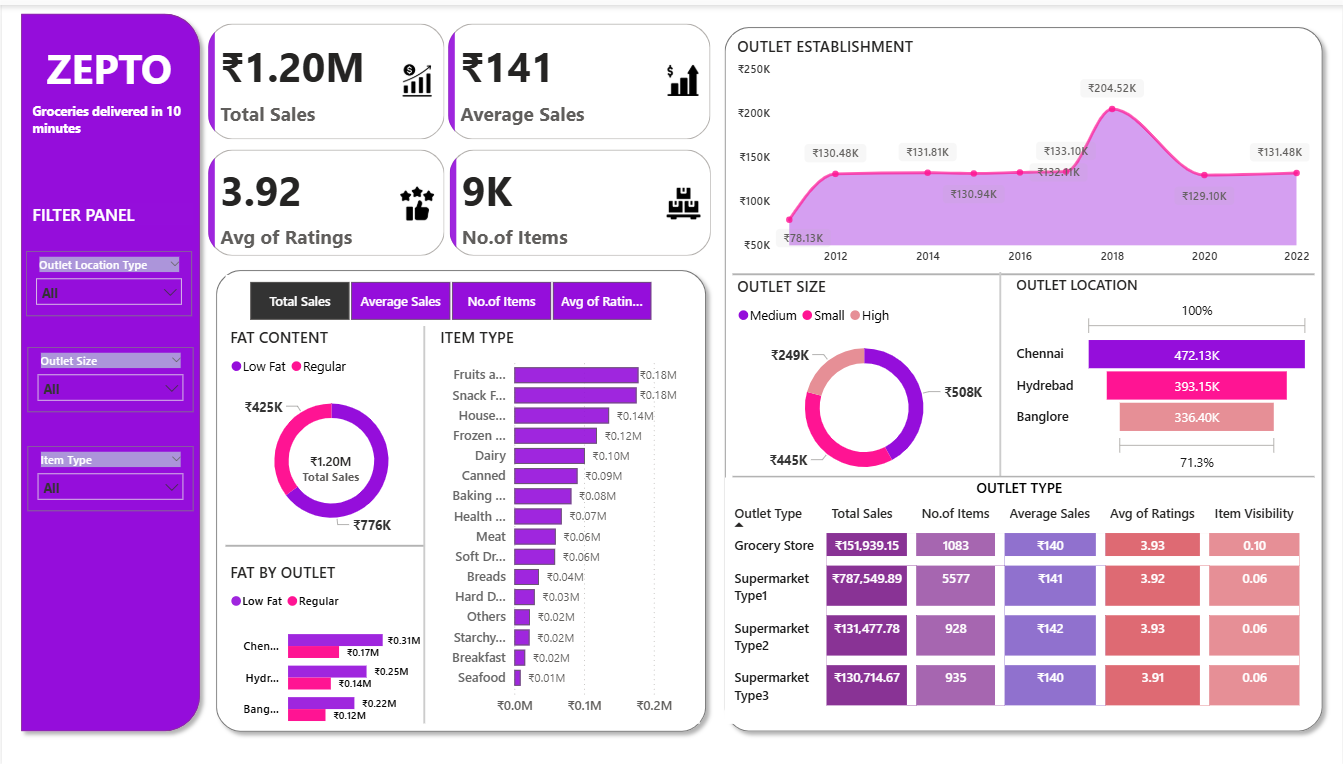

Layout of this report page (visuals, bound fields, positions):
{"tool":"powerbi","page":{"name":"Page 1","canvas":[1400,800],"ordinal":0},"visuals":[{"type":"shape","box":[10.4,0,204.9,767.6],"z":0},{"type":"textbox","box":[262.2,626.9,204.9,123.3],"z":1000},{"type":"textbox","box":[24.3,31.3,173.7,76.4],"z":2000},{"type":"textbox","box":[26,95.5,173.7,50.4],"z":3000},{"type":"cardVisual","title":" ","fields":{"Data":["Zepto Grocery Data.Average Sales"]},"box":[460.2,13.9,284.8,132],"z":4000},{"type":"cardVisual","fields":{"Data":["Zepto Grocery Data.Avg of Ratings"]},"box":[210.1,145.9,257,121.6],"z":5000},{"type":"cardVisual","fields":{"Data":["Zepto Grocery Data.Total Sales"]},"box":[210.1,13.9,257,132],"z":6000},{"type":"cardVisual","fields":{"Data":["Zepto Grocery Data.No.of Items"]},"box":[461.9,145.9,283.1,121.6],"z":7000},{"type":"shape","box":[215.3,267.4,529.7,500.2],"z":8000},{"type":"donutChart","title":"FAT CONTENT","fields":{"Y":["Zepto Grocery Data.Total Sales"],"Category":["Zepto Grocery Data.Item Fat Content"]},"box":[232.7,335.2,220.6,230],"z":9000},{"type":"slicer","fields":{"Values":["Metrics.Metrics"]},"box":[232.7,281.3,468.9,53.8],"z":10000},{"type":"cardVisual","fields":{"Data":["Zepto Grocery Data.Total Sales"]},"box":[290,449.8,107.7,55.6],"z":11000},{"type":"clusteredBarChart","title":"FAT BY OUTLET","fields":{"Y":["Zepto Grocery Data.Total Sales"],"Category":["Zepto Grocery Data.Outlet Location Type"],"Series":["Zepto Grocery Data.Item Fat Content"]},"box":[232.7,581.8,208.4,185.8],"z":12000},{"type":"shape","box":[232.7,540.1,208.4,48.6],"z":13000},{"type":"shape","box":[416.8,335.2,48.6,415.1],"z":14000},{"type":"barChart","title":"ITEM TYPE","fields":{"Y":["Zepto Grocery Data.Total Sales"],"Category":["Zepto Grocery Data.Item Type"]},"box":[453.3,335.2,276.1,415.1],"z":15000},{"type":"shape","box":[745,13.9,642.6,753.7],"z":16000},{"type":"lineChart","title":"OUTLET ESTABLISHMENT","fields":{"Y":["Zepto Grocery Data.Total Sales"],"Category":["Zepto Grocery Data.Outlet Establishment Year"]},"box":[762.4,31.3,607.8,248.3],"z":17000},{"type":"shape","box":[762.4,257,607.8,48.6],"z":18000},{"type":"donutChart","title":"OUTLET SIZE","fields":{"Y":["Zepto Grocery Data.Total Sales"],"Category":["Zepto Grocery Data.Outlet Size"]},"box":[762.4,281.3,274.4,225.8],"z":19000},{"type":"shape","box":[1017.7,279.6,48.6,213.6],"z":20000},{"type":"funnel","title":"OUTLET LOCATION","fields":{"Y":["Sum(Zepto Grocery Data.Sales)"],"Category":["Zepto Grocery Data.Outlet Location Type"]},"box":[1054.1,281.3,316.1,210.1],"z":21000},{"type":"shape","box":[762.4,468.9,607.8,48.6],"z":22000},{"type":"pivotTable","title":"OUTLET TYPE","fields":{"Rows":["Zepto Grocery Data.Outlet Type"],"Values":["Zepto Grocery Data.Total Sales","Zepto Grocery Data.No.of Items","Zepto Grocery Data.Average Sales","Zepto Grocery Data.Avg of Ratings","Avg(Zepto Grocery Data.Item Visibility)"]},"box":[755.4,493.2,614.8,257],"z":23000},{"type":"slicer","fields":{"Values":["Zepto Grocery Data.Outlet Location Type"]},"box":[24.3,257,173.7,67.7],"z":23001},{"type":"slicer","fields":{"Values":["Zepto Grocery Data.Outlet Size"]},"box":[26,357.8,173.7,67.7],"z":23002},{"type":"slicer","fields":{"Values":["Zepto Grocery Data.Item Type"]},"box":[26,460.2,173.7,67.7],"z":23003},{"type":"textbox","title":"FILTER PANEL","box":[26,206.7,173.7,22.6],"z":23004}]}

Visuals, with their boxes in screenshot pixels (x1, y1, x2, y2), scaled from the page's 1400x800 canvas onto the 1343x764 screenshot:
shape: 10 0 207 733
textbox: 252 599 448 716
textbox: 23 30 190 103
textbox: 25 91 192 139
" " cardVisual: 441 13 715 139
cardVisual - Zepto Grocery Data.Avg of Ratings: 202 139 448 255
cardVisual - Zepto Grocery Data.Total Sales: 202 13 448 139
cardVisual - Zepto Grocery Data.No.of Items: 443 139 715 255
shape: 207 255 715 733
"FAT CONTENT" donutChart: 223 320 435 540
slicer - Metrics.Metrics: 223 269 673 320
cardVisual - Zepto Grocery Data.Total Sales: 278 430 382 483
"FAT BY OUTLET" clusteredBarChart: 223 556 423 733
shape: 223 516 423 562
shape: 400 320 446 717
"ITEM TYPE" barChart: 435 320 700 717
shape: 715 13 1331 733
"OUTLET ESTABLISHMENT" lineChart: 731 30 1314 267
shape: 731 245 1314 292
"OUTLET SIZE" donutChart: 731 269 995 484
shape: 976 267 1023 471
"OUTLET LOCATION" funnel: 1011 269 1314 469
shape: 731 448 1314 494
"OUTLET TYPE" pivotTable: 725 471 1314 716
slicer - Zepto Grocery Data.Outlet Location Type: 23 245 190 310
slicer - Zepto Grocery Data.Outlet Size: 25 342 192 406
slicer - Zepto Grocery Data.Item Type: 25 439 192 504
"FILTER PANEL" textbox: 25 197 192 219
